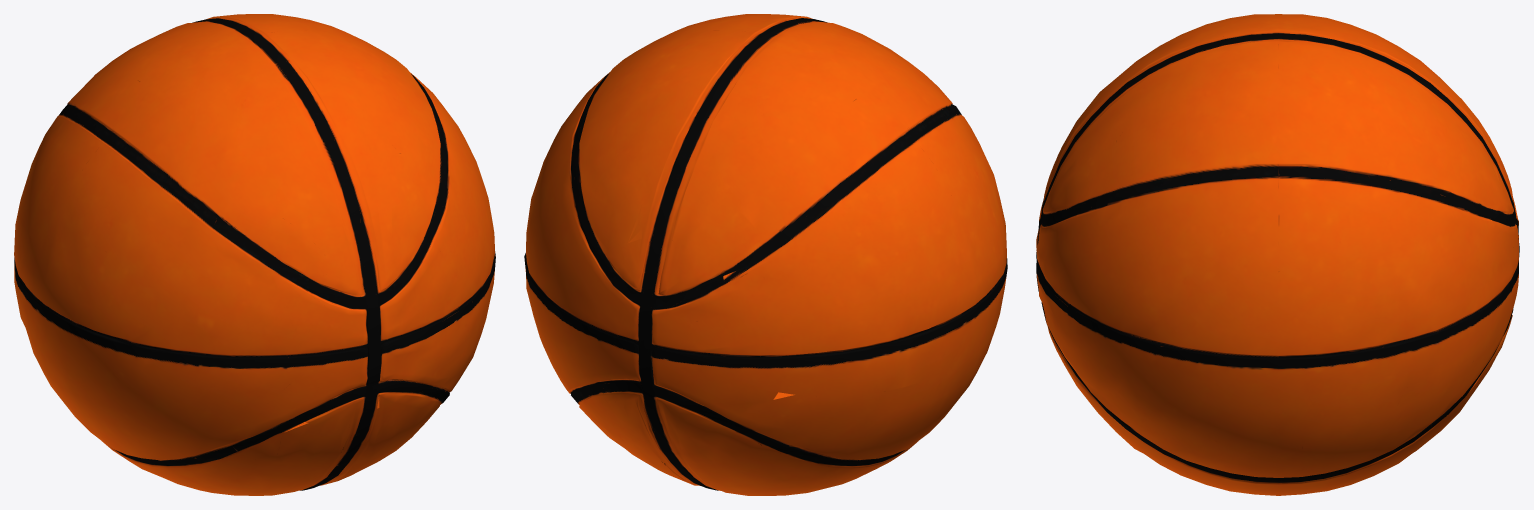
The model's file is ball.glb.
3 views of the same model, side by side, from view 1: azimuth 30°, elevation 25°; view 2: azimuth 150°, elevation 25°; view 3: azimuth 270°, elevation 25° (orthographic).
Parts seen in each view (by area): view 1: geometry_0; view 2: geometry_0; view 3: geometry_0.
Boxes of the visible parts, x1,y1,x2,y2 form: geometry_0: (14, 14, 495, 495); geometry_0: (524, 14, 1007, 495); geometry_0: (1036, 14, 1519, 495).
Bounding box in the file's own units: 0.9512 × 0.9526 × 0.9512.
Materials: 1 (1 with a texture image).
